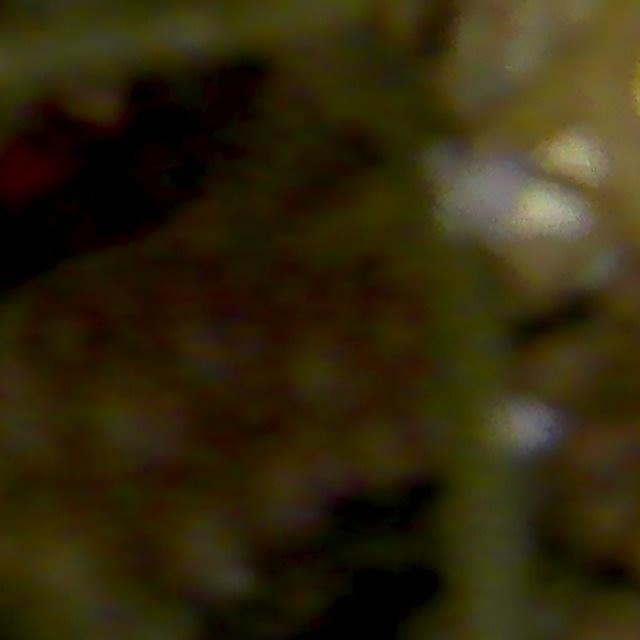SeaGrape: (85, 373, 190, 485), (19, 285, 133, 385), (528, 316, 640, 416), (281, 321, 385, 428), (569, 411, 640, 492)
